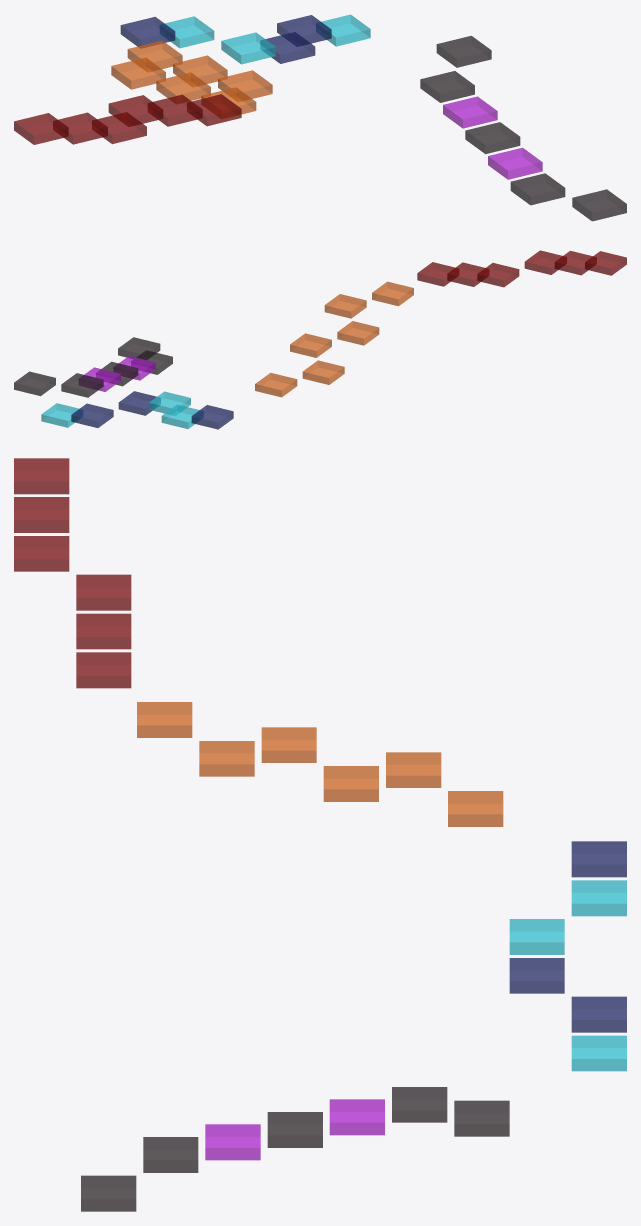
The model's file is pattern maze individual pieces.glb.
3 renders of one model, top to bottom at view 1: azimuth 30°, elevation 25°; view 2: azimuth 150°, elevation 25°; view 3: azimuth 270°, elevation 25°, orthographic. The views are drawn at different scales.
Parts seen in each view (by area): view 1: Cube.001_Passable.006, Cube.001_Passable.005, Cube.001_Passable.003, Cube.008_Passable, Cube.022_Passable, Cube.001_Passable.012, Cube.001_Passable.004, Cube.001_Passable.002, Cube.023_Passable, Cube.019_Passable, Cube.002_Passable, Cube.020_Passable (+13 smaller); view 2: Cube.019_Passable.001, Cube.001_Passable, Cube.009_Passable, Cube.002_Passable, Cube.014_Passable, Cube.023_Passable, Cube.001_Passable.002, Cube.018_Passable, Cube.001.001_Passable, Cube.016_Passable, Cube.019_Passable, Cube.010_Passable (+13 smaller); view 3: Cube.001_Passable.004, Cube.001_Passable.006, Cube.022_Passable, Cube.008_Passable, Cube.009_Passable, Cube.001_Passable.001, Cube.014_Passable, Cube.002_Passable, Cube.019_Passable, Cube.021_Passable, Cube.001_passable.006, Cube.020_Passable (+13 smaller).
Part boxes in pixels (bbox=[...]): Cube.001_Passable.006: bbox=[436, 35, 491, 67]; Cube.001_Passable.005: bbox=[510, 173, 565, 205]; Cube.001_Passable.003: bbox=[465, 122, 520, 154]; Cube.008_Passable: bbox=[443, 96, 497, 128]; Cube.022_Passable: bbox=[572, 189, 626, 221]; Cube.001_Passable.012: bbox=[221, 32, 275, 64]; Cube.001_Passable.004: bbox=[488, 147, 542, 179]; Cube.001_Passable.002: bbox=[420, 71, 474, 102]; Cube.023_Passable: bbox=[111, 57, 165, 89]; Cube.019_Passable: bbox=[14, 113, 68, 144]; Cube.002_Passable: bbox=[108, 95, 163, 126]; Cube.020_Passable: bbox=[148, 94, 202, 126]; Cube.019_Passable.001: bbox=[337, 321, 379, 345]; Cube.001_Passable: bbox=[255, 372, 297, 397]; Cube.009_Passable: bbox=[71, 403, 113, 427]; Cube.002_Passable: bbox=[477, 263, 519, 287]; Cube.014_Passable: bbox=[191, 405, 233, 429]; Cube.023_Passable: bbox=[302, 360, 344, 384]; Cube.001_Passable.002: bbox=[61, 373, 103, 397]; Cube.018_Passable: bbox=[324, 294, 366, 318]; Cube.001.001_Passable: bbox=[290, 333, 331, 357]; Cube.016_Passable: bbox=[372, 281, 413, 306]; Cube.019_Passable: bbox=[585, 251, 626, 275]; Cube.010_Passable: bbox=[118, 391, 160, 415]; Cube.001_Passable.004: bbox=[205, 1124, 260, 1160]; Cube.001_Passable.006: bbox=[454, 1100, 509, 1136]; Cube.022_Passable: bbox=[81, 1175, 136, 1211]; Cube.008_Passable: bbox=[329, 1099, 384, 1135]; Cube.009_Passable: bbox=[571, 996, 626, 1032]; Cube.001_Passable.001: bbox=[571, 880, 626, 916]; Cube.014_Passable: bbox=[571, 841, 626, 877]; Cube.002_Passable: bbox=[76, 574, 131, 610]; Cube.019_Passable: bbox=[14, 458, 69, 494]; Cube.021_Passable: bbox=[76, 652, 131, 688]; Cube.001_passable.006: bbox=[571, 1035, 626, 1071]; Cube.020_Passable: bbox=[76, 613, 131, 649].
Size of what is drawn, in the model's own units: 71.07 by 27 by 44.35.
Materials: 1 (1 with a texture image).
